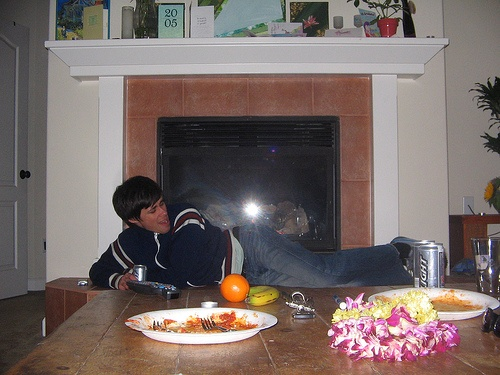head: (112, 175, 173, 237)
person: (83, 172, 413, 294)
